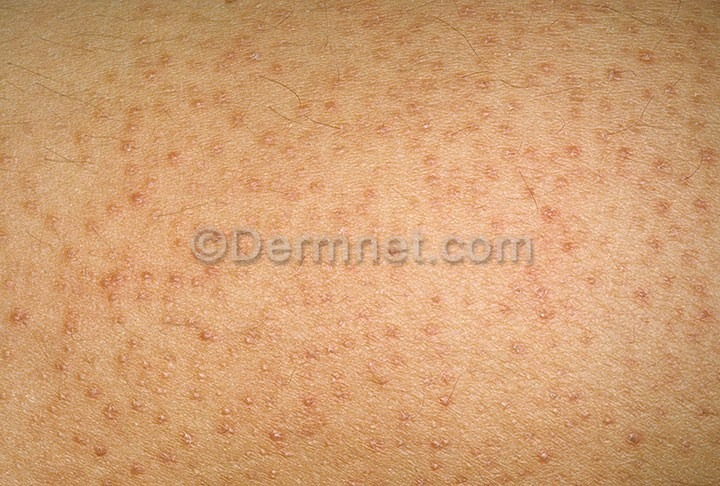Eczema: (1, 3, 720, 486)
